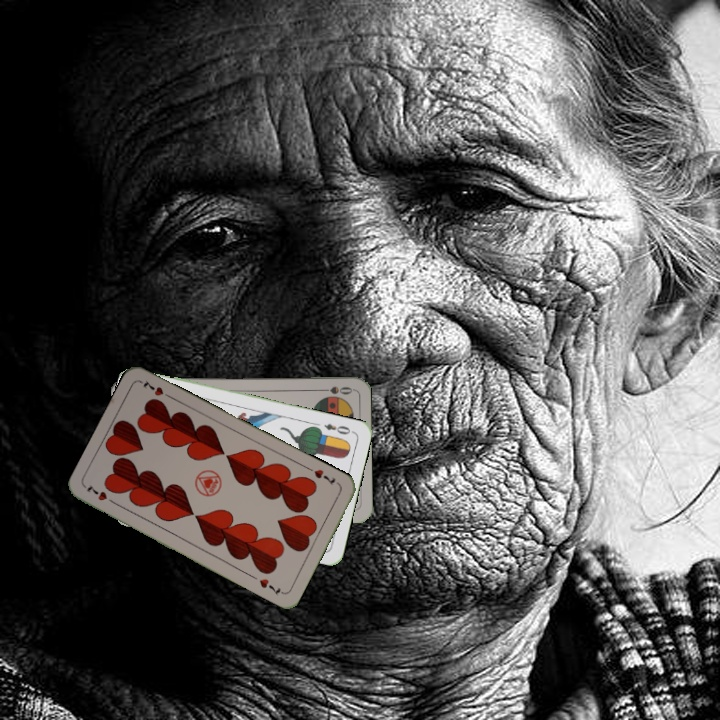EO: (320, 419, 356, 437)
H7: (82, 481, 119, 507), (310, 465, 338, 488)
SO: (314, 382, 355, 397)
